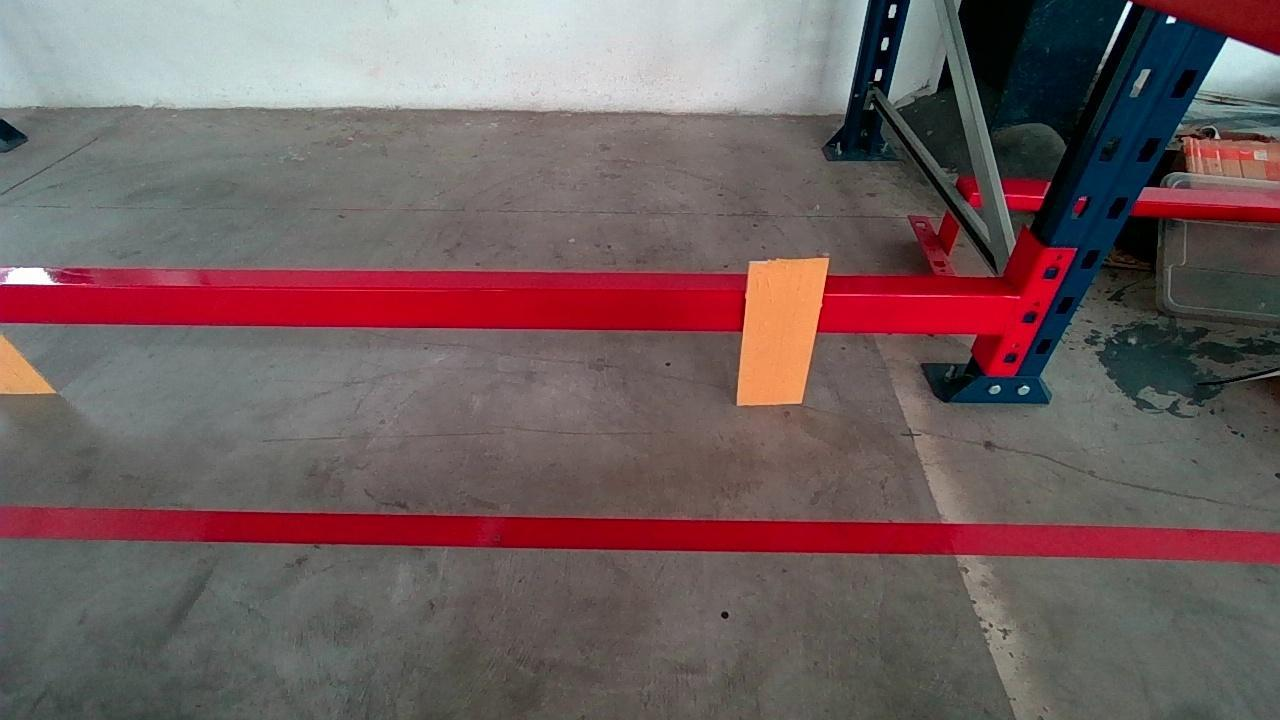h_rack: (13, 279, 1011, 335)
orange_strip: (737, 260, 826, 404), (0, 325, 56, 395)
red_line: (0, 505, 1280, 562)
